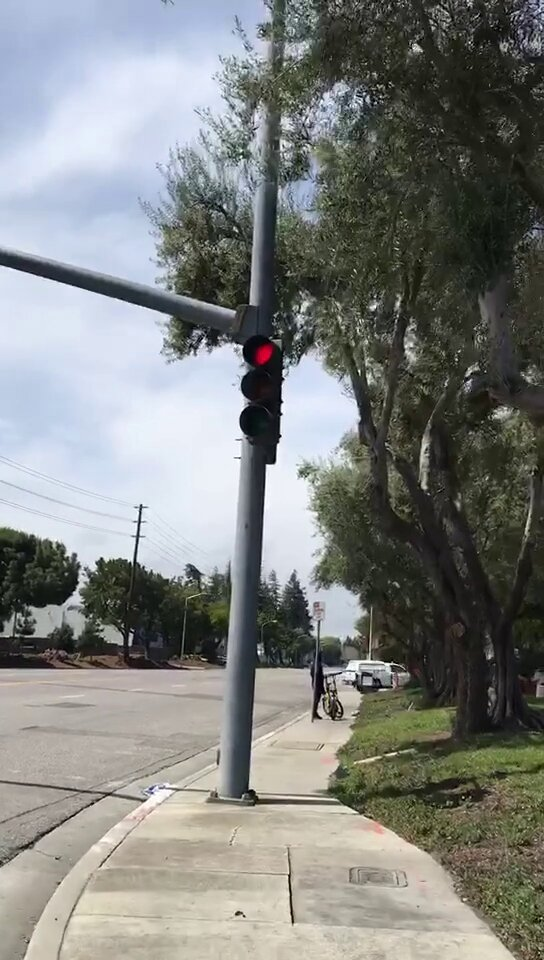red_light: (243, 335, 278, 443)
